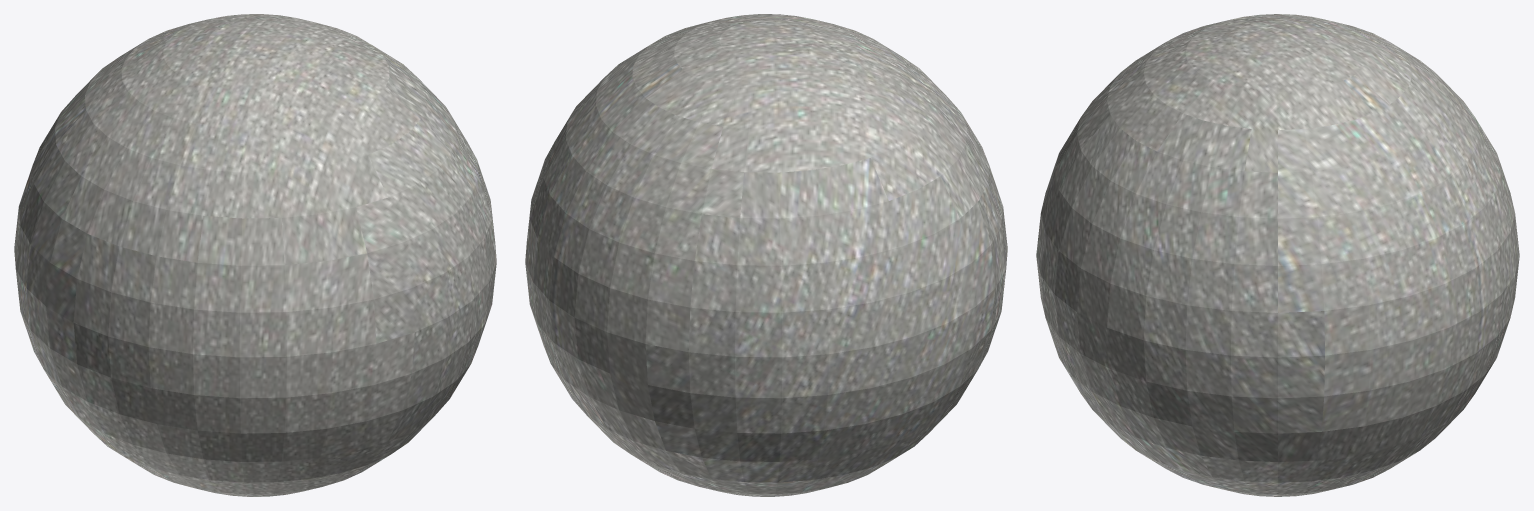
The model's file is ball.obj.
3 renders of one model, left to right at view 1: azimuth 30°, elevation 25°; view 2: azimuth 150°, elevation 25°; view 3: azimuth 270°, elevation 25°, orthographic.
Parts seen in each view (by area): view 1: Ball_Sphere.002; view 2: Ball_Sphere.002; view 3: Ball_Sphere.002.
Boxes of the visible parts, left/top/right/bottom form: Ball_Sphere.002: left=14, top=14, right=496, bottom=496; Ball_Sphere.002: left=525, top=14, right=1007, bottom=496; Ball_Sphere.002: left=1036, top=14, right=1519, bottom=496.
Bounding box in the file's own units: 0.168 × 0.168 × 0.168.
